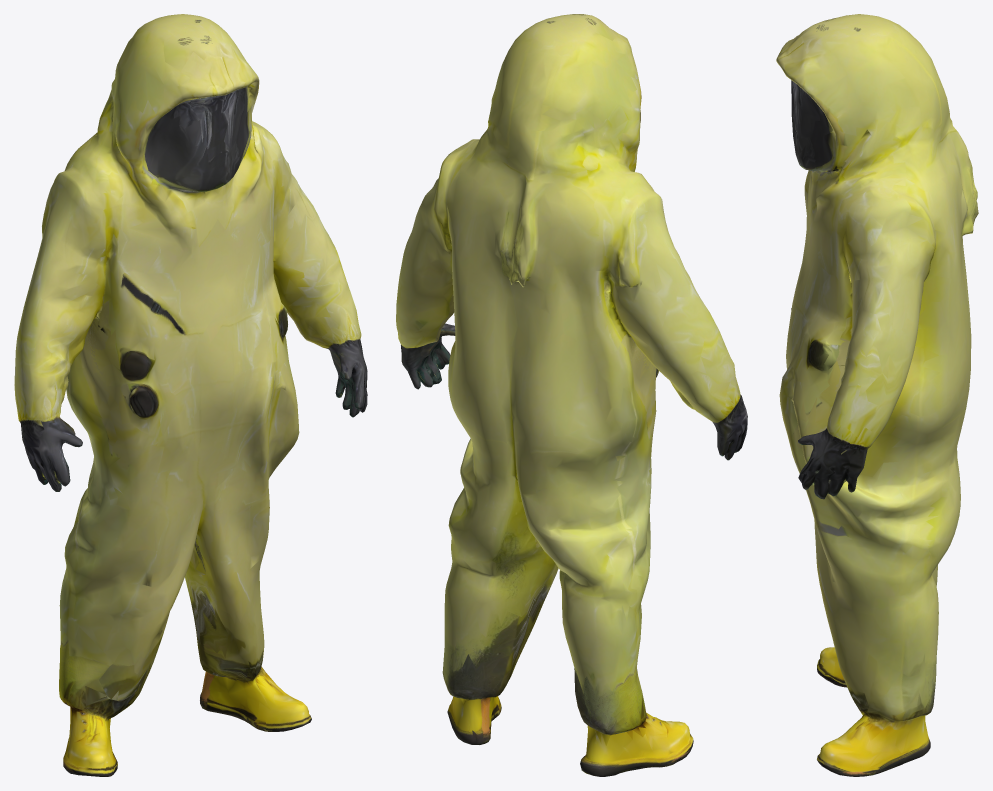
The model's file is Hazmat_guy.glb.
The picture shows the model from 3 angles, left to right: view 1: azimuth 30°, elevation 25°; view 2: azimuth 150°, elevation 25°; view 3: azimuth 270°, elevation 25°; orthographic projection. The views are drawn at different scales.
Visible parts, largest first — view 1: Mesh_0; view 2: Mesh_0; view 3: Mesh_0.
Part boxes in pixels (box(x1,y1,x2,y2)): Mesh_0: box(14, 14, 367, 776); Mesh_0: box(396, 14, 747, 776); Mesh_0: box(776, 14, 978, 776).
Size of the model in its own units: 0.972 by 1.99 by 0.521.
Materials: 1 (1 with a texture image).
